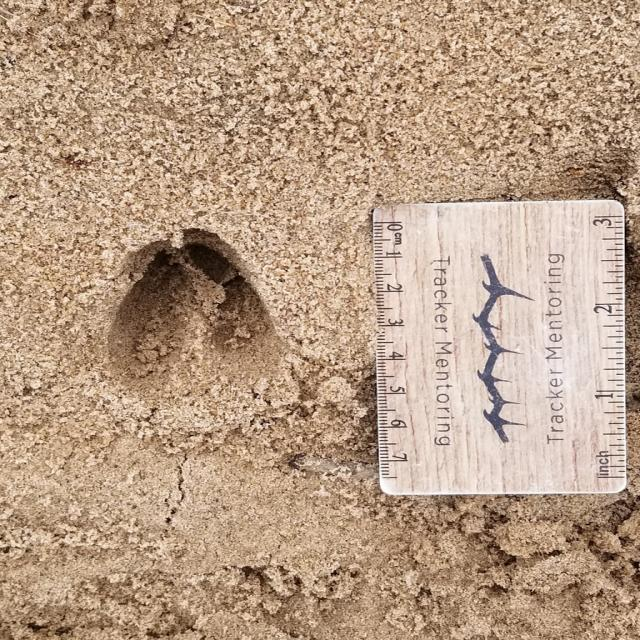deer: (107, 244, 290, 410)
